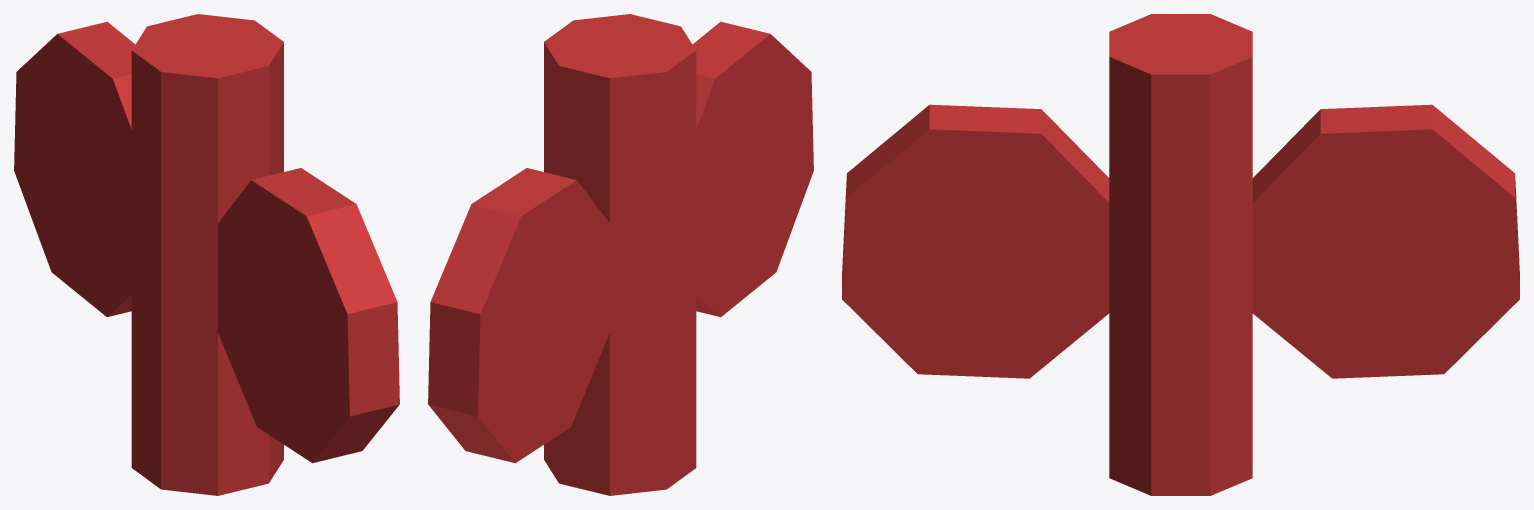
File: borboleta.obj
3 views of the same model, side by side, from view 1: azimuth 30°, elevation 25°; view 2: azimuth 150°, elevation 25°; view 3: azimuth 270°, elevation 25° (orthographic).
Visible parts, largest first — view 1: borboleta; view 2: borboleta; view 3: borboleta.
Boxes of the visible parts, left/top/right/bottom form: borboleta: left=14, top=14, right=399, bottom=495; borboleta: left=428, top=14, right=813, bottom=495; borboleta: left=842, top=14, right=1519, bottom=495.
Bounding box in the file's own units: 0.0462 × 0.15 × 0.2187.
